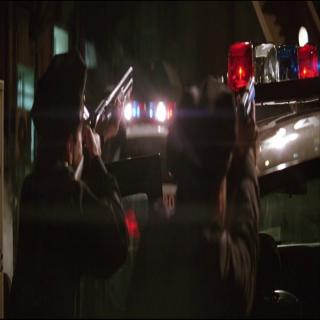gun: (71, 62, 137, 165), (242, 72, 256, 125)
